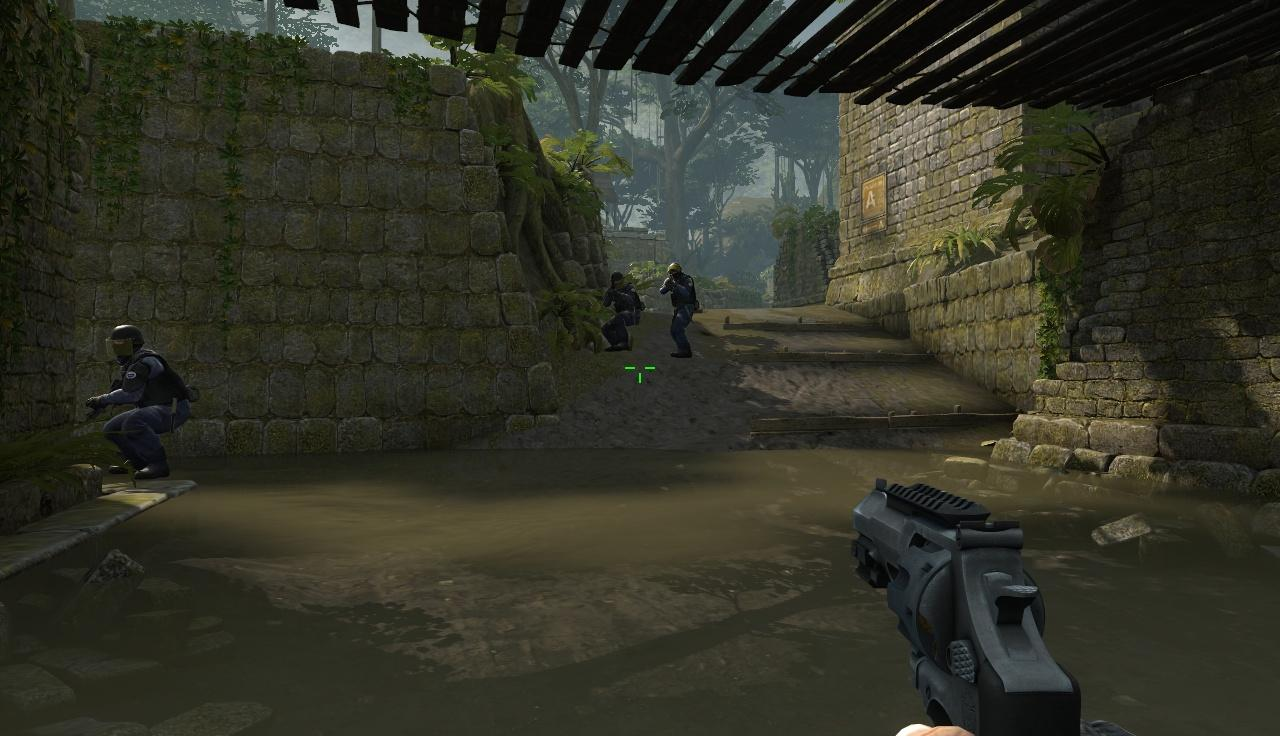ct: (102, 322, 184, 473), (666, 264, 701, 362), (666, 263, 701, 360), (601, 273, 641, 355)
cthead: (110, 323, 146, 362), (613, 272, 631, 292), (670, 264, 686, 282)
pistol: (845, 483, 1101, 736)
